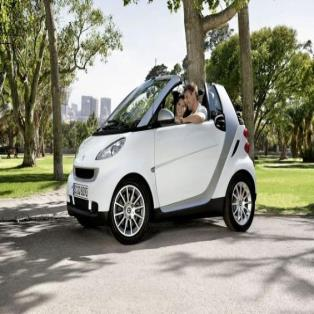Auto: (67, 76, 258, 244)
